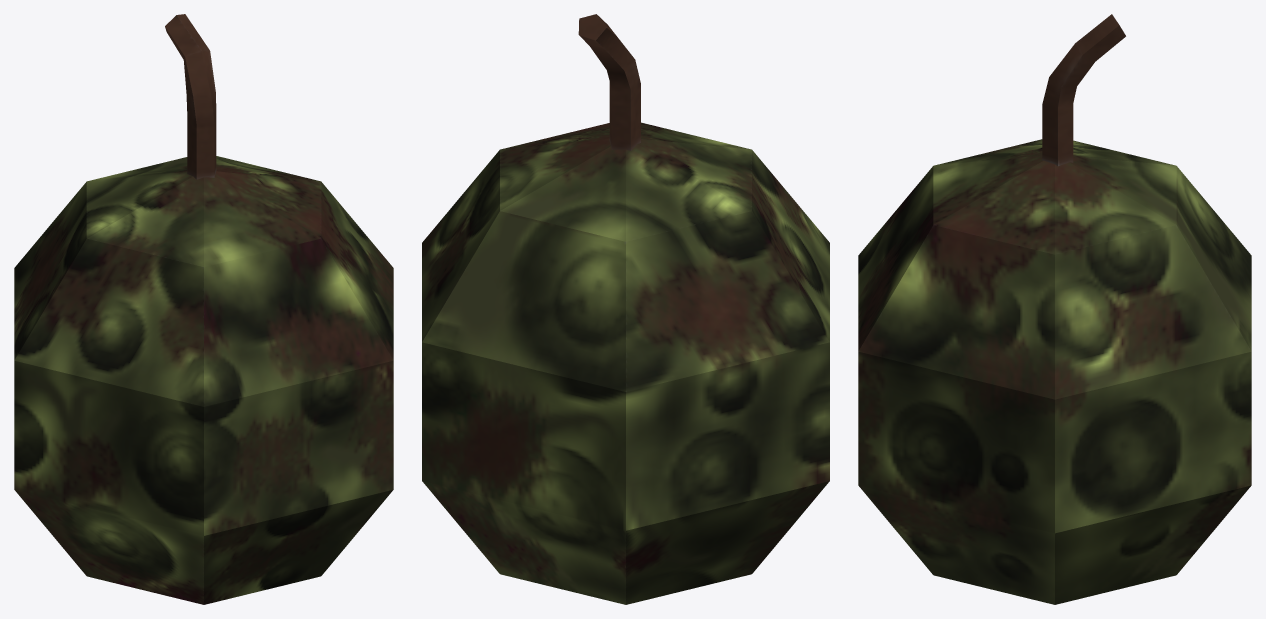
The model's file is frukt.obj.
3 renders of one model, left to right at view 1: azimuth 30°, elevation 25°; view 2: azimuth 150°, elevation 25°; view 3: azimuth 270°, elevation 25°, orthographic. The views are drawn at different scales.
Parts seen in each view (by area): view 1: polySurface1; view 2: polySurface1; view 3: polySurface1.
Boxes of the visible parts, box(x1,y1,x2,y2) form: polySurface1: box(14, 14, 393, 604); polySurface1: box(422, 14, 829, 604); polySurface1: box(858, 14, 1251, 604).
Size of the model in its own units: 2.81 by 3.9 by 2.43.
